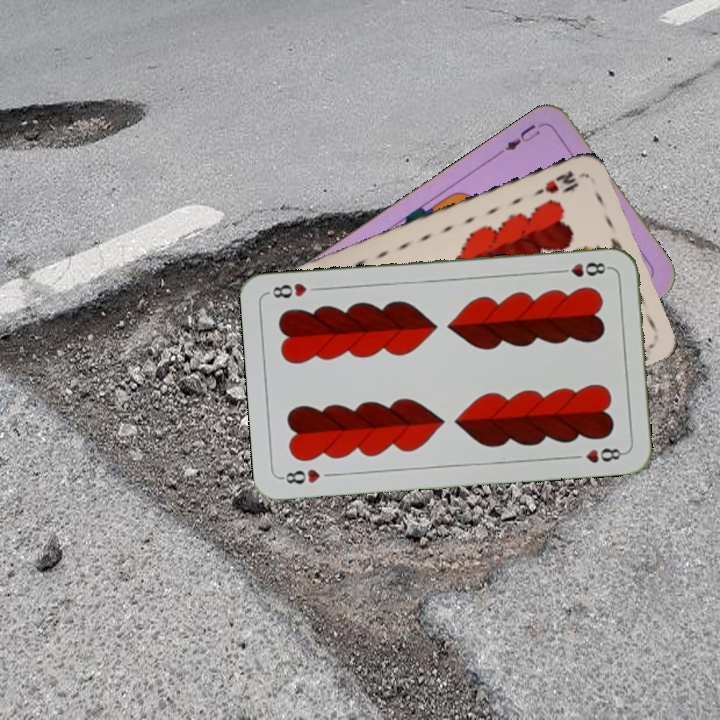EU: (495, 118, 549, 156)
H10: (530, 166, 581, 199)
H8: (278, 464, 337, 487), (554, 258, 613, 280)
